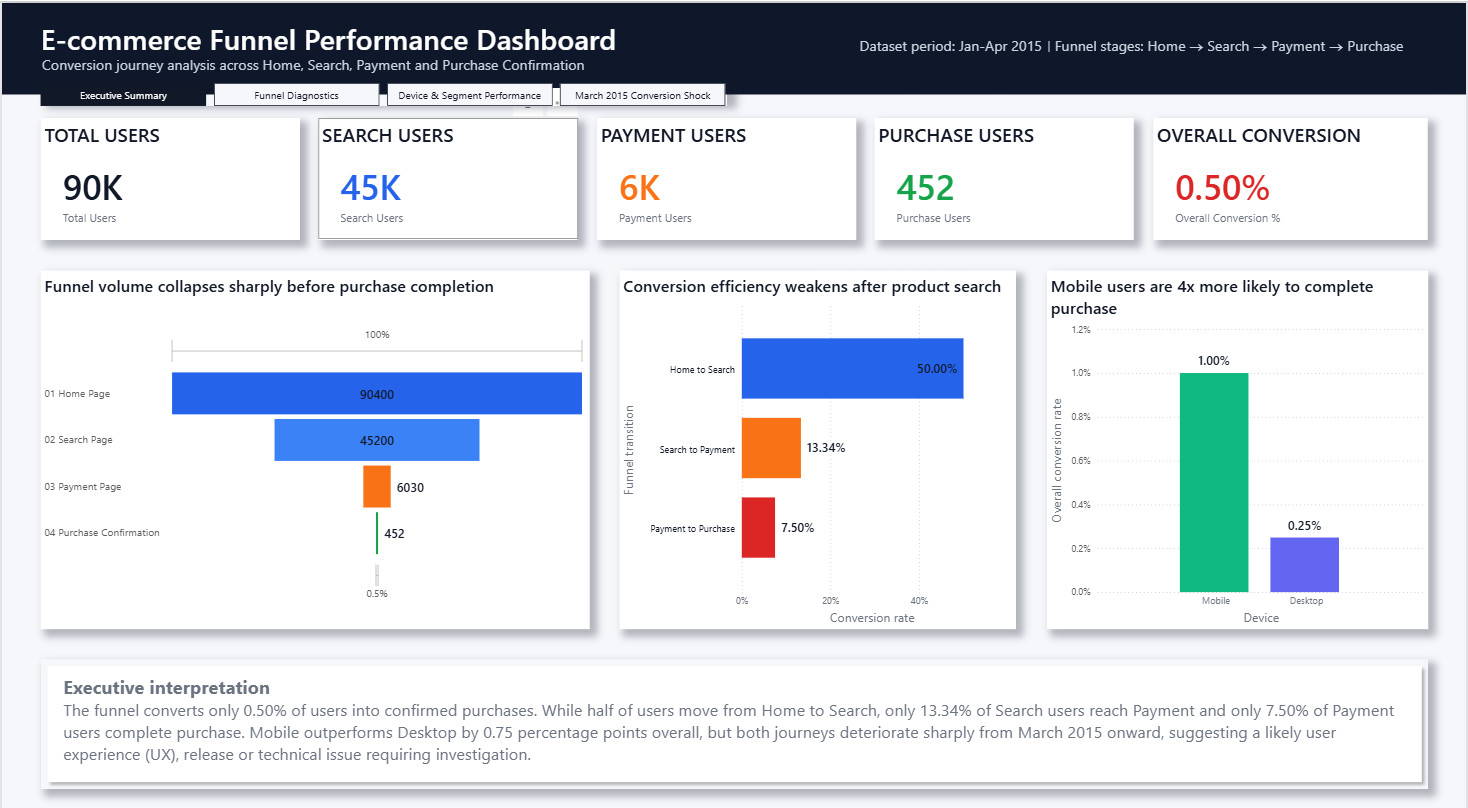

The page's visual inventory and layout, read from the dashboard file:
{"tool":"powerbi","page":{"name":"Executive Summary","canvas":[1920,1080],"ordinal":0},"visuals":[{"type":"shape","box":[0,0,1920,120],"z":0},{"type":"textbox","box":[50,22,900,50],"z":1000},{"type":"textbox","box":[52,68,1050,30],"z":2000},{"type":"textbox","box":[1118,42,720,35],"z":3000},{"type":"cardVisual","title":"TOTAL USERS","fields":{"Data":["User Funnel.Total Users"]},"box":[50,150,340,160],"z":4000},{"type":"cardVisual","title":"SEARCH USERS","fields":{"Data":["User Funnel.Search Users"]},"box":[415,150,340,160],"z":5000},{"type":"cardVisual","title":"PURCHASE USERS","fields":{"Data":["User Funnel.Purchase Users"]},"box":[1145,150,340,160],"z":6000},{"type":"cardVisual","title":"OVERALL CONVERSION","fields":{"Data":["User Funnel.Overall Conversion %"]},"box":[1510,150,360,160],"z":7000},{"type":"cardVisual","title":"PAYMENT USERS","fields":{"Data":["User Funnel.Payment Users"]},"box":[780,150,340,160],"z":8000},{"type":"funnel","title":"Funnel volume collapses sharply before purchase completion","fields":{"Category":["Dim Funnel Stage.stage_name"],"Y":["User Funnel.Dynamic Funnel Users"]},"box":[50,350,720,470],"z":9000},{"type":"clusteredBarChart","title":"Conversion efficiency weakens after product search","fields":{"Category":["Stage Conversion Rates.Stage"],"Y":["Sum(Stage Conversion Rates.Conversion Rate)"]},"box":[810,350,520,470],"z":10000},{"type":"clusteredColumnChart","title":"Mobile users are 4x more likely to complete purchase","fields":{"Category":["User Funnel.device"],"Y":["User Funnel.Overall Conversion %"]},"box":[1370,350,500,470],"z":11000},{"type":"shape","box":[50,860,1820,170],"z":12000},{"type":"textbox","box":[80,880,1760,130],"z":13000},{"type":"pageNavigator","box":[50,105,900,30],"z":16000}]}

Visuals, with their boxes in screenshot pixels (x1, y1, x2, y2), scaled from the page's 1920x1080 canvas onto the 1468x808 screenshot:
shape: x1=0 y1=0 x2=1467 y2=90
textbox: x1=38 y1=16 x2=726 y2=54
textbox: x1=40 y1=51 x2=843 y2=73
textbox: x1=855 y1=31 x2=1405 y2=58
"TOTAL USERS" cardVisual: x1=38 y1=112 x2=298 y2=232
"SEARCH USERS" cardVisual: x1=317 y1=112 x2=577 y2=232
"PURCHASE USERS" cardVisual: x1=875 y1=112 x2=1135 y2=232
"OVERALL CONVERSION" cardVisual: x1=1155 y1=112 x2=1430 y2=232
"PAYMENT USERS" cardVisual: x1=596 y1=112 x2=856 y2=232
"Funnel volume collapses sharply before purchase completion" funnel: x1=38 y1=262 x2=589 y2=613
"Conversion efficiency weakens after product search" clusteredBarChart: x1=619 y1=262 x2=1017 y2=613
"Mobile users are 4x more likely to complete purchase" clusteredColumnChart: x1=1047 y1=262 x2=1430 y2=613
shape: x1=38 y1=643 x2=1430 y2=771
textbox: x1=61 y1=658 x2=1407 y2=756
pageNavigator: x1=38 y1=79 x2=726 y2=101
